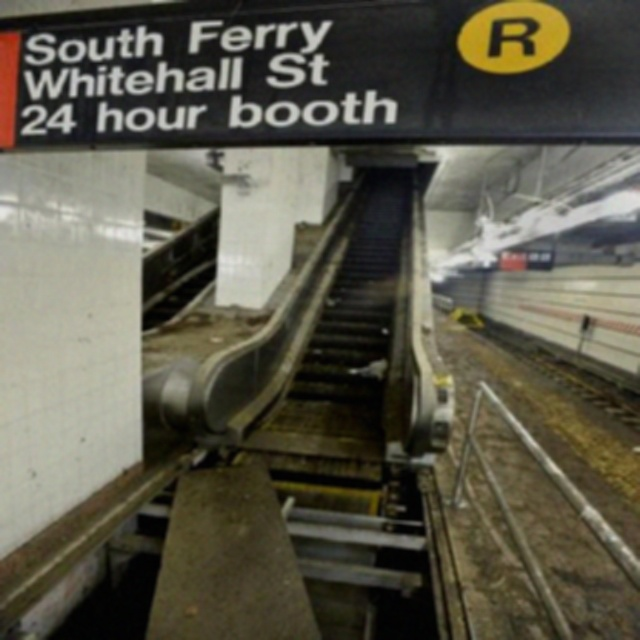stair: (258, 175, 408, 442), (141, 263, 219, 334)
